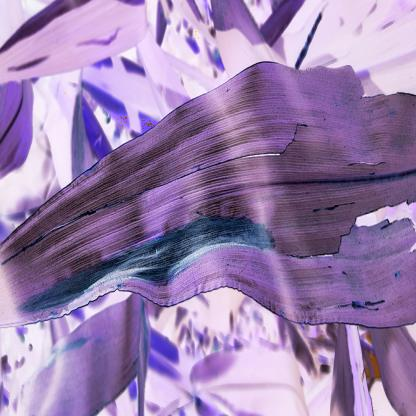corn leaf blight: (0, 75, 414, 312)
